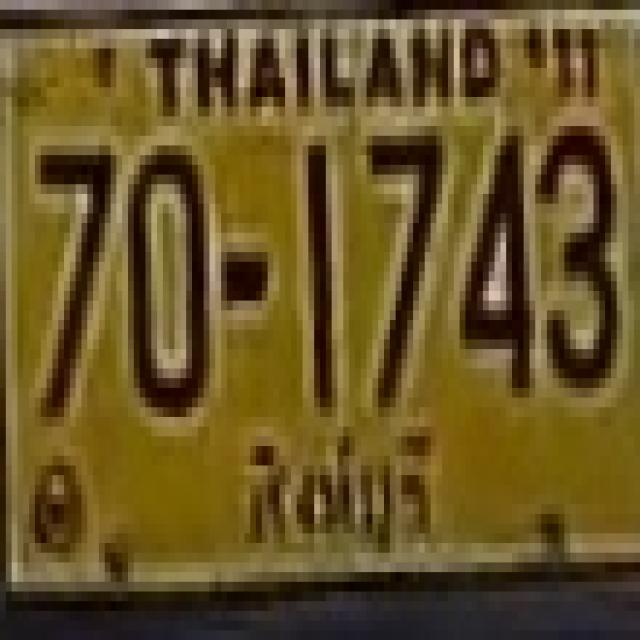0: (128, 141, 210, 415)
1: (305, 136, 329, 407)
3: (538, 116, 619, 388)
4: (459, 126, 534, 394)
7: (366, 126, 442, 406), (35, 141, 110, 412)
SBR: (237, 420, 442, 568)
